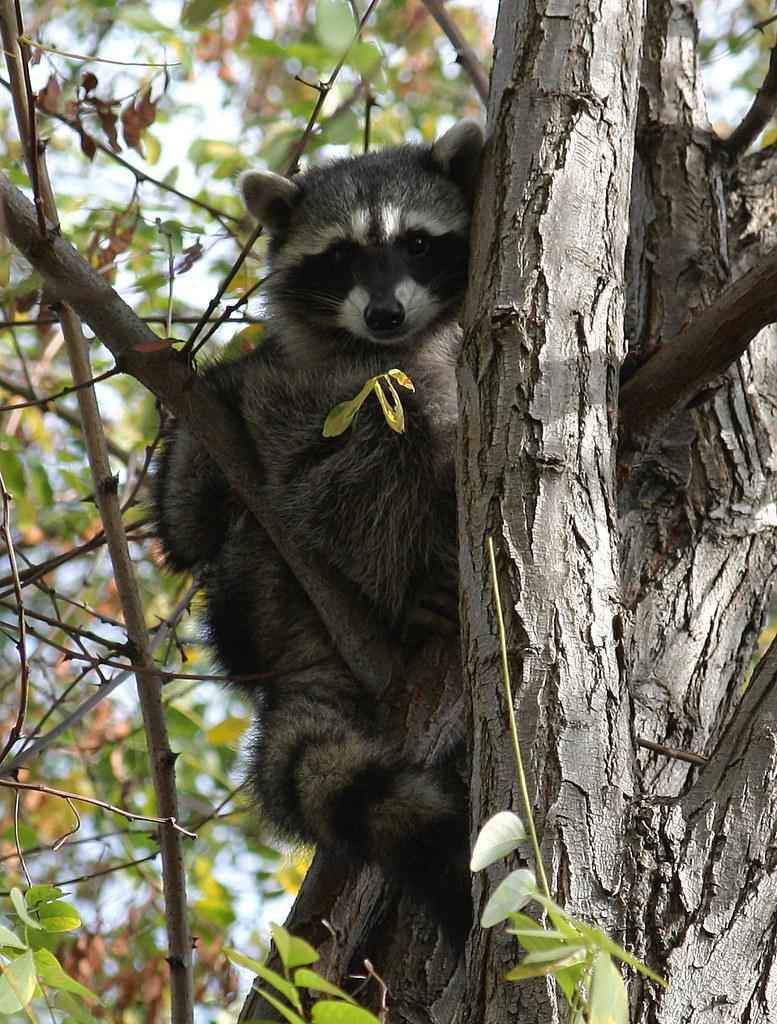raccoon: (146, 133, 592, 903)
